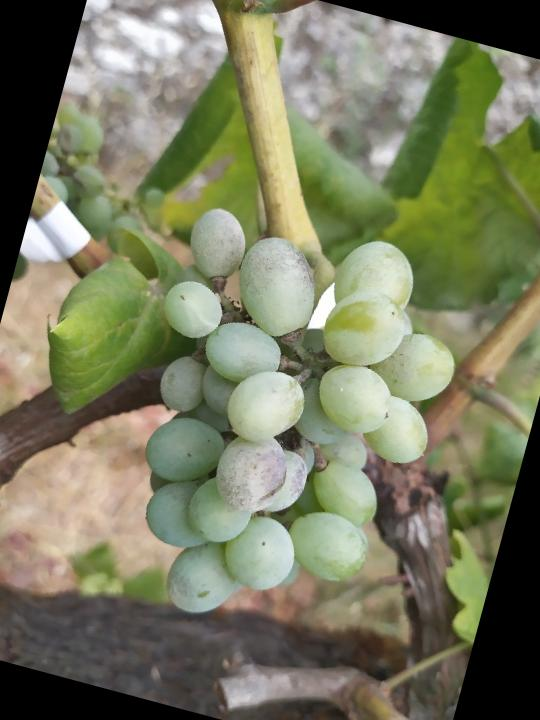grape: (84, 185, 486, 666)
